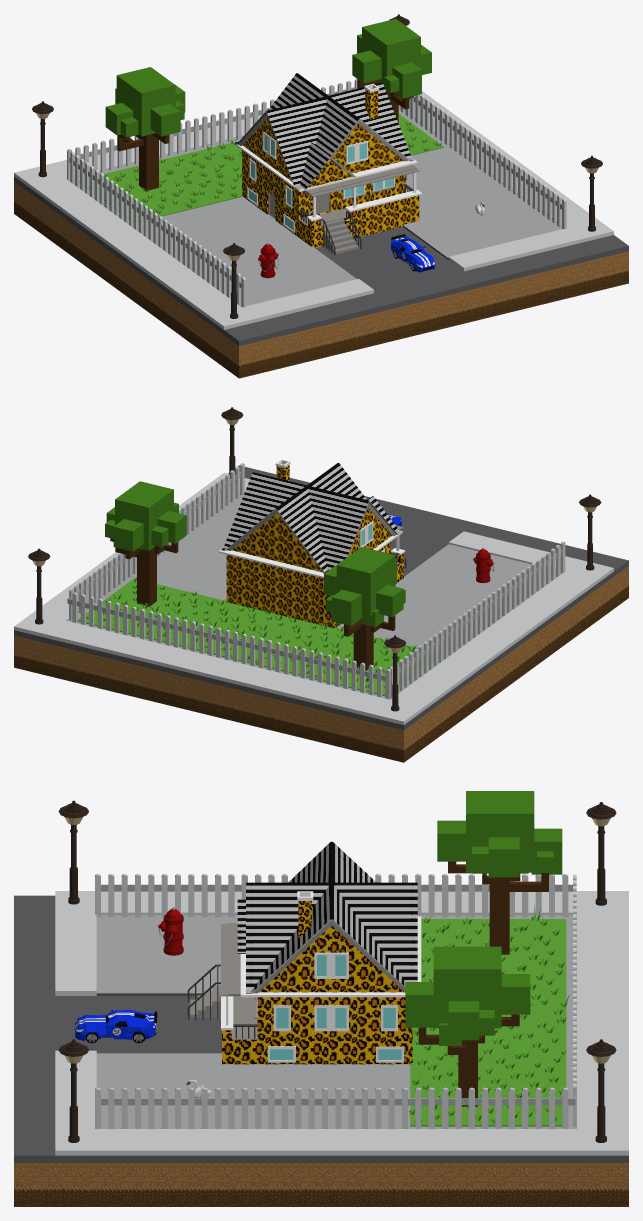
The picture shows the model from 3 angles, top to bottom: view 1: azimuth 30°, elevation 25°; view 2: azimuth 150°, elevation 25°; view 3: azimuth 270°, elevation 25°; orthographic projection. The views are drawn at different scales.
Parts seen in each view (by area): view 1: Cube.004, Cube.637, VEHICLES_RACING_CAR, OBJRANDOM_FIRE_HYDRANT; view 2: Cube.004, Cube.637, OBJRANDOM_FIRE_HYDRANT; view 3: Cube.004, Cube.637, VEHICLES_RACING_CAR, OBJRANDOM_FIRE_HYDRANT.
Boxes of the visible parts, x1,y1,x2,y2 form: Cube.004: (14, 14, 628, 378); Cube.637: (233, 73, 421, 255); VEHICLES_RACING_CAR: (390, 234, 435, 272); OBJRANDOM_FIRE_HYDRANT: (258, 243, 278, 278); Cube.004: (14, 407, 628, 762); Cube.637: (218, 459, 406, 627); OBJRANDOM_FIRE_HYDRANT: (473, 547, 493, 582); Cube.004: (14, 791, 628, 1206); Cube.637: (187, 841, 421, 1064); VEHICLES_RACING_CAR: (74, 1009, 157, 1043); OBJRANDOM_FIRE_HYDRANT: (158, 907, 183, 955).
Size of the model in its own units: 4000 by 1702 by 4000.
Materials: 32 (4 with a texture image).
